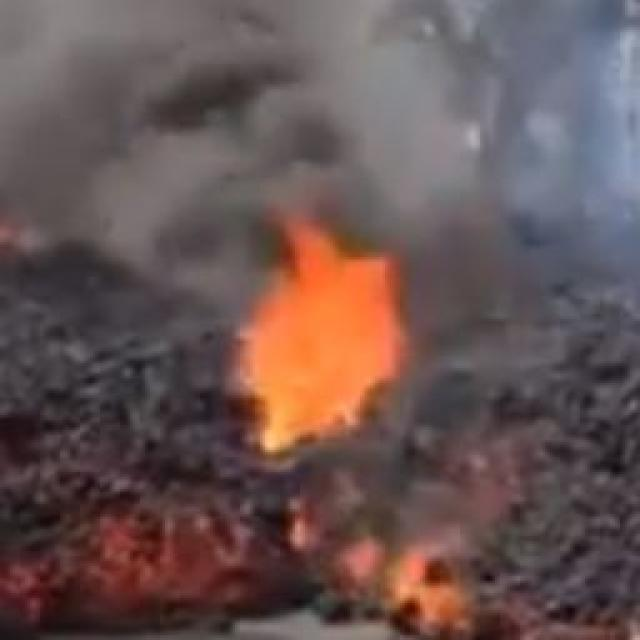Fire: (184, 237, 583, 623)
Smoke: (6, 0, 407, 184)
